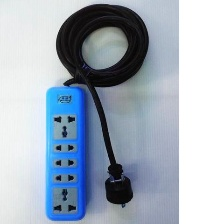three_eye_plug: (42, 83, 89, 223)
